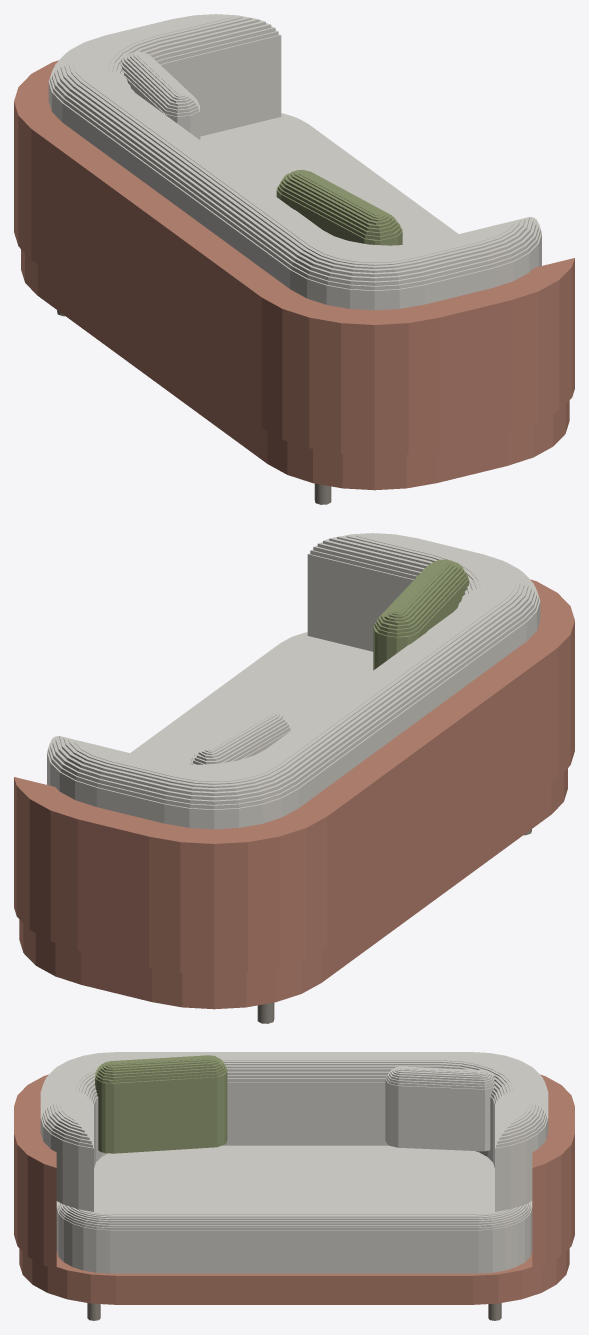
The model's file is SM_Sofa_Terrace.fbx.
3 views of the same model, one above another, from view 1: azimuth 30°, elevation 25°; view 2: azimuth 150°, elevation 25°; view 3: azimuth 270°, elevation 25° (orthographic). The views are drawn at different scales.
Visible parts, largest first — view 1: SM_Sofa_Terrace; view 2: SM_Sofa_Terrace; view 3: SM_Sofa_Terrace.
Boxes of the visible parts, left/top/right/bottom form: SM_Sofa_Terrace: left=14, top=14, right=574, bottom=504; SM_Sofa_Terrace: left=14, top=533, right=574, bottom=1023; SM_Sofa_Terrace: left=14, top=1052, right=574, bottom=1320.
Size of the model in its own units: 98 by 84 by 210.
